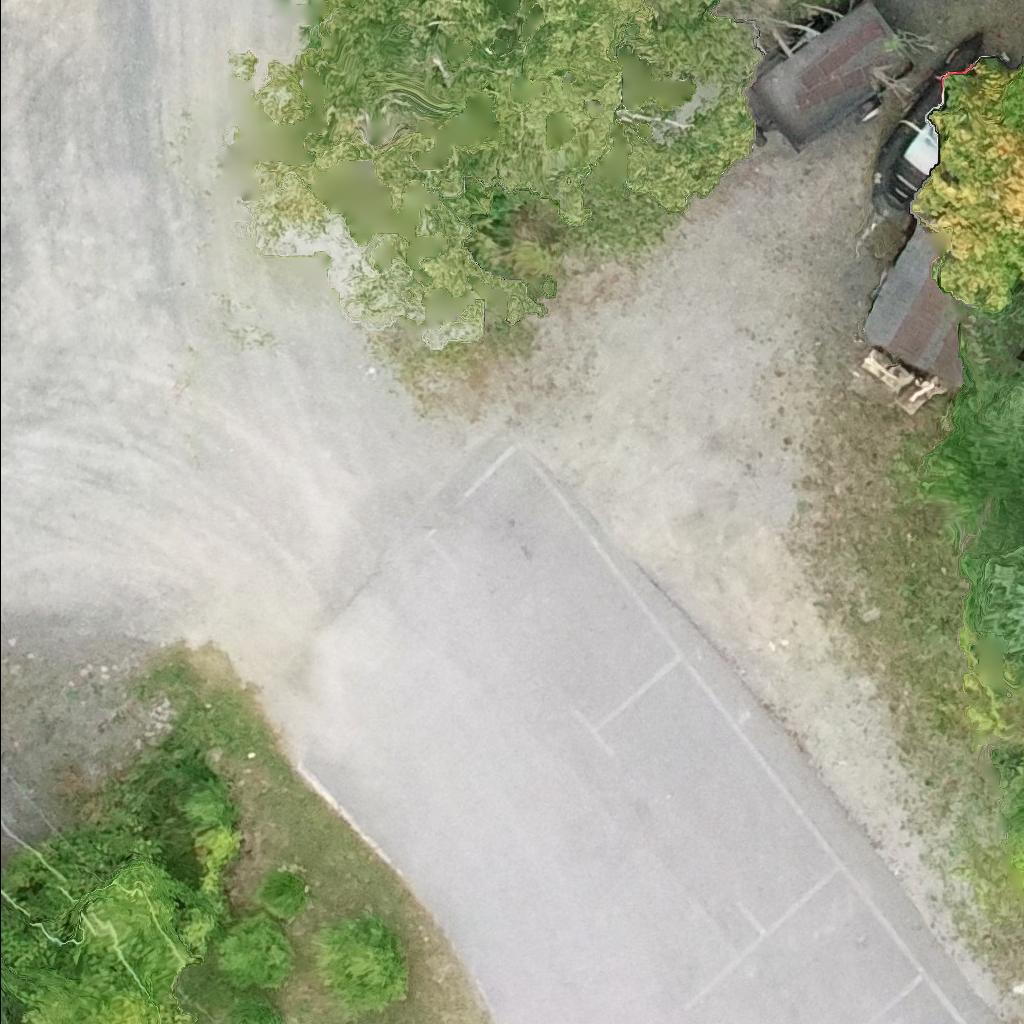crown: (961, 537, 1023, 671)
